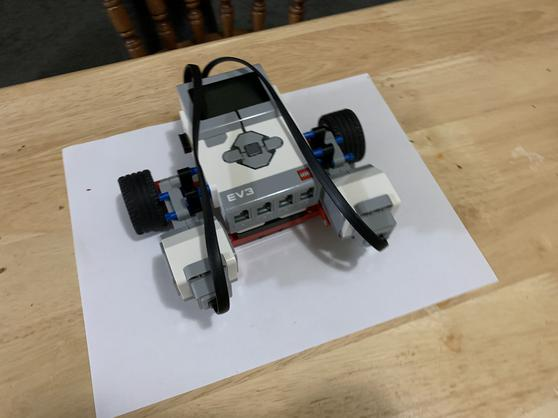robot: (120, 56, 400, 319)
